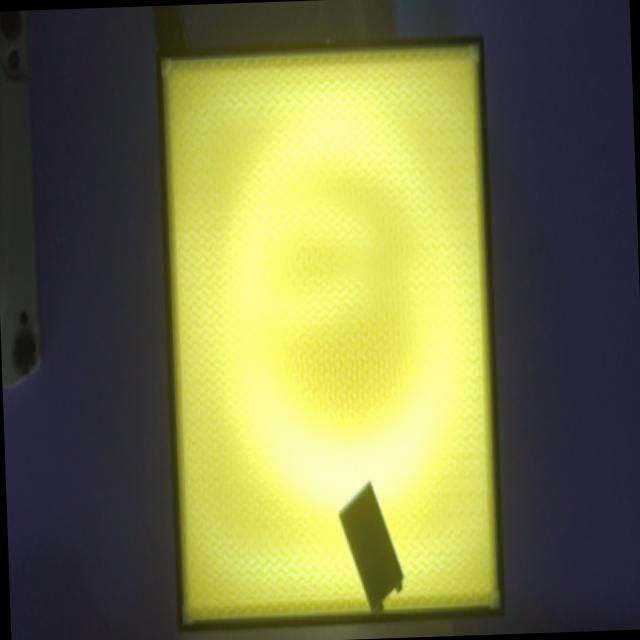bateria: (338, 481, 404, 615)
mesa: (156, 35, 505, 632)
